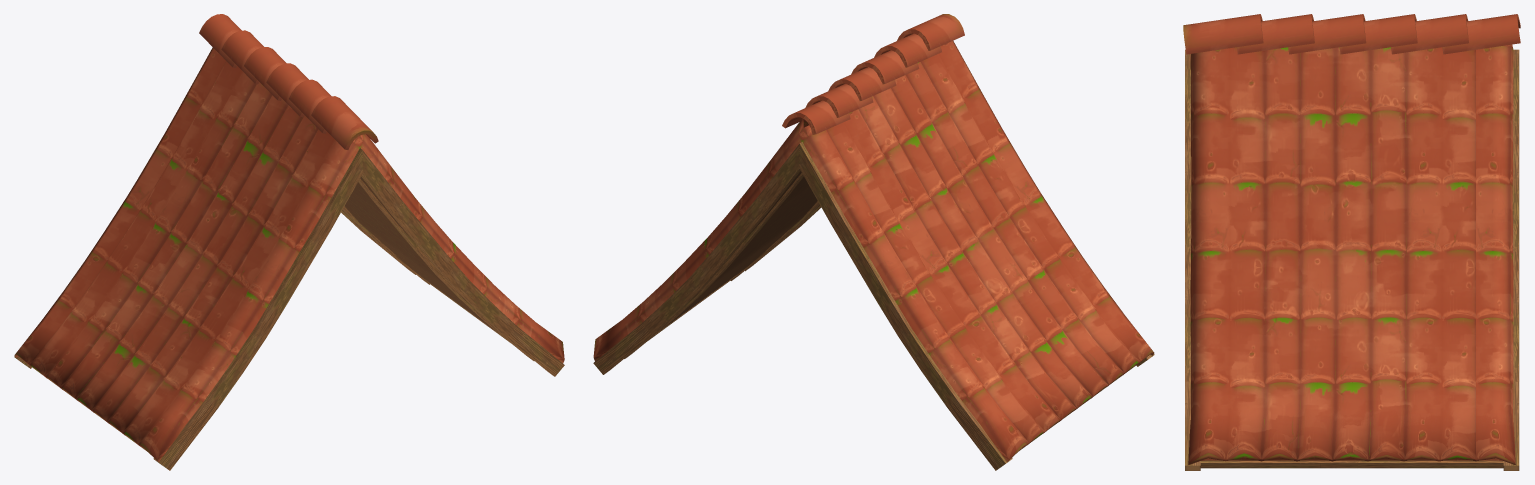
Rendered from roof_round_tiles_6x4.glb.
3 views of the same model, side by side, from view 1: azimuth 30°, elevation 25°; view 2: azimuth 150°, elevation 25°; view 3: azimuth 270°, elevation 25° (orthographic). The views are drawn at different scales.
Visible parts, largest first — view 1: Roof_RoundTiles_6x4; view 2: Roof_RoundTiles_6x4; view 3: Roof_RoundTiles_6x4.
Boxes of the visible parts, box(x1,y1,x2,y2) form: Roof_RoundTiles_6x4: box(14, 14, 564, 470); Roof_RoundTiles_6x4: box(593, 14, 1154, 470); Roof_RoundTiles_6x4: box(1183, 14, 1520, 470).
Size of the model in its own units: 8.25 by 5.67 by 4.99.
Materials: 2 (2 with a texture image).
